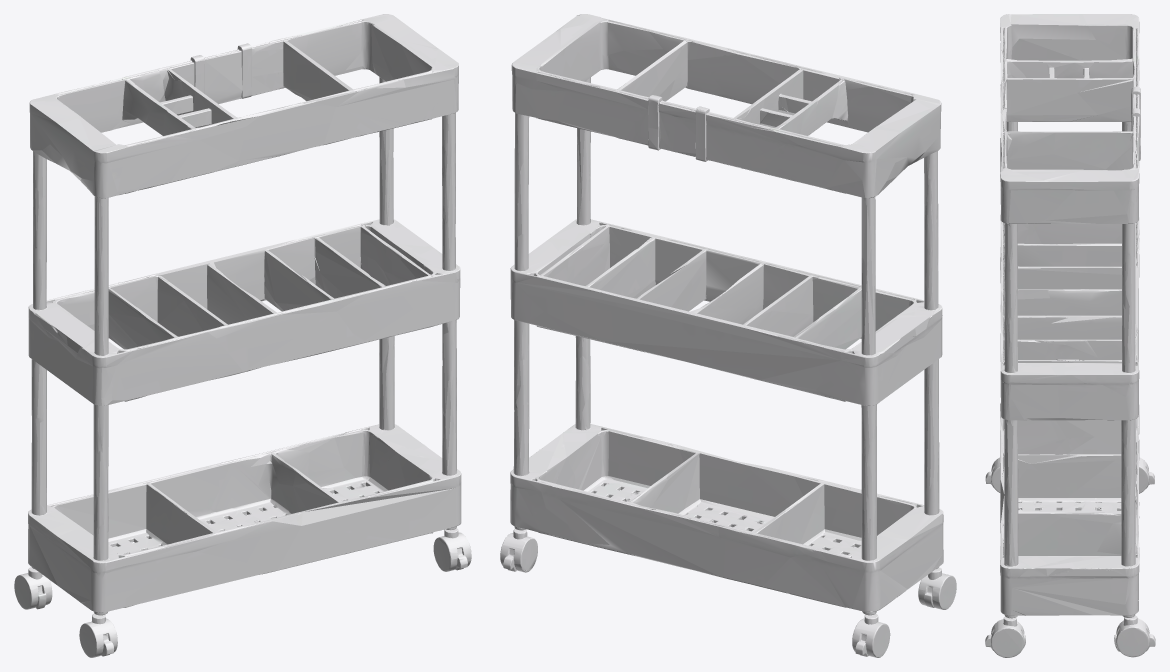
The model's file is target-com-p-narrow-rolling-cart-with-accessories-white-brig-f1e24a.glb.
3 views of the same model, side by side, from view 1: azimuth 30°, elevation 25°; view 2: azimuth 150°, elevation 25°; view 3: azimuth 270°, elevation 25° (orthographic). The views are drawn at different scales.
Visible parts, largest first — view 1: Mesh_0; view 2: Mesh_0; view 3: Mesh_0.
Boxes of the visible parts, x1,y1,x2,y2 form: Mesh_0: (14, 14, 471, 657); Mesh_0: (500, 14, 956, 657); Mesh_0: (985, 14, 1155, 657).
Size of the model in its own units: 1.47 by 1.9 by 0.6133.
1 material, 1 textured.
